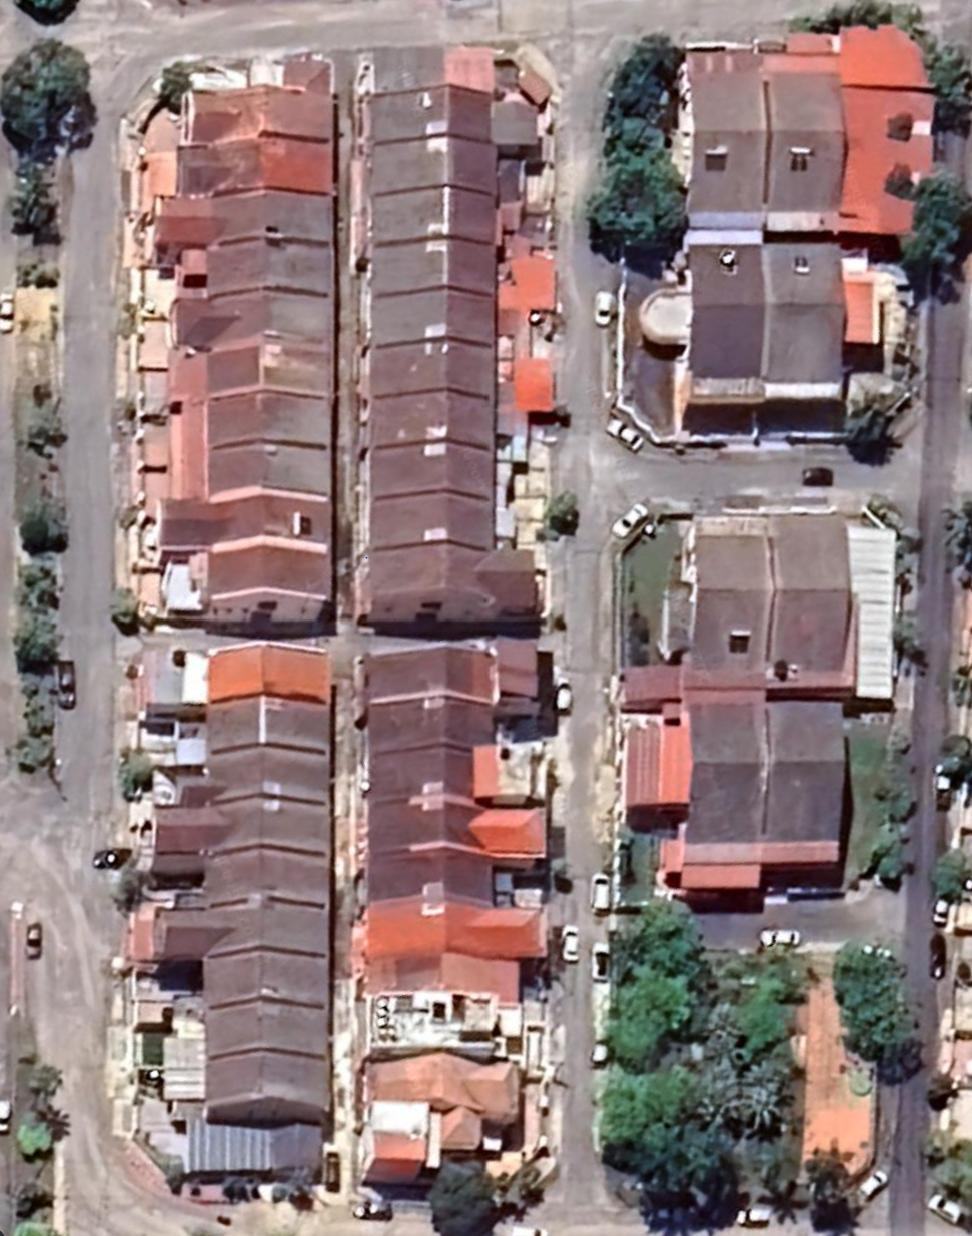building: (829, 19, 949, 240), (757, 507, 862, 681), (676, 38, 773, 222), (753, 694, 857, 864), (353, 1056, 533, 1153), (170, 47, 339, 149), (364, 625, 551, 712), (766, 47, 853, 224), (755, 236, 853, 391), (673, 689, 756, 872), (679, 507, 763, 679), (360, 738, 549, 813), (356, 546, 544, 620), (136, 852, 338, 919), (358, 900, 551, 967), (140, 192, 343, 253), (356, 799, 549, 863), (145, 493, 335, 557), (149, 903, 337, 967), (679, 236, 759, 386), (358, 995, 536, 1061), (149, 801, 341, 862), (171, 1114, 333, 1185), (356, 91, 547, 151), (168, 247, 342, 307), (180, 545, 338, 611), (160, 300, 349, 355), (170, 750, 340, 810), (201, 635, 342, 705), (192, 399, 337, 465), (193, 348, 344, 411), (358, 42, 502, 108), (194, 1057, 339, 1122), (168, 147, 345, 199), (361, 702, 504, 766), (358, 141, 506, 202), (357, 499, 504, 560), (360, 297, 504, 358), (364, 446, 503, 508), (360, 196, 508, 254), (361, 400, 497, 462), (362, 346, 502, 406), (199, 702, 342, 760), (361, 245, 503, 303), (194, 1007, 332, 1066), (355, 957, 531, 1003), (362, 859, 509, 913), (193, 455, 334, 510), (196, 962, 337, 1017)
